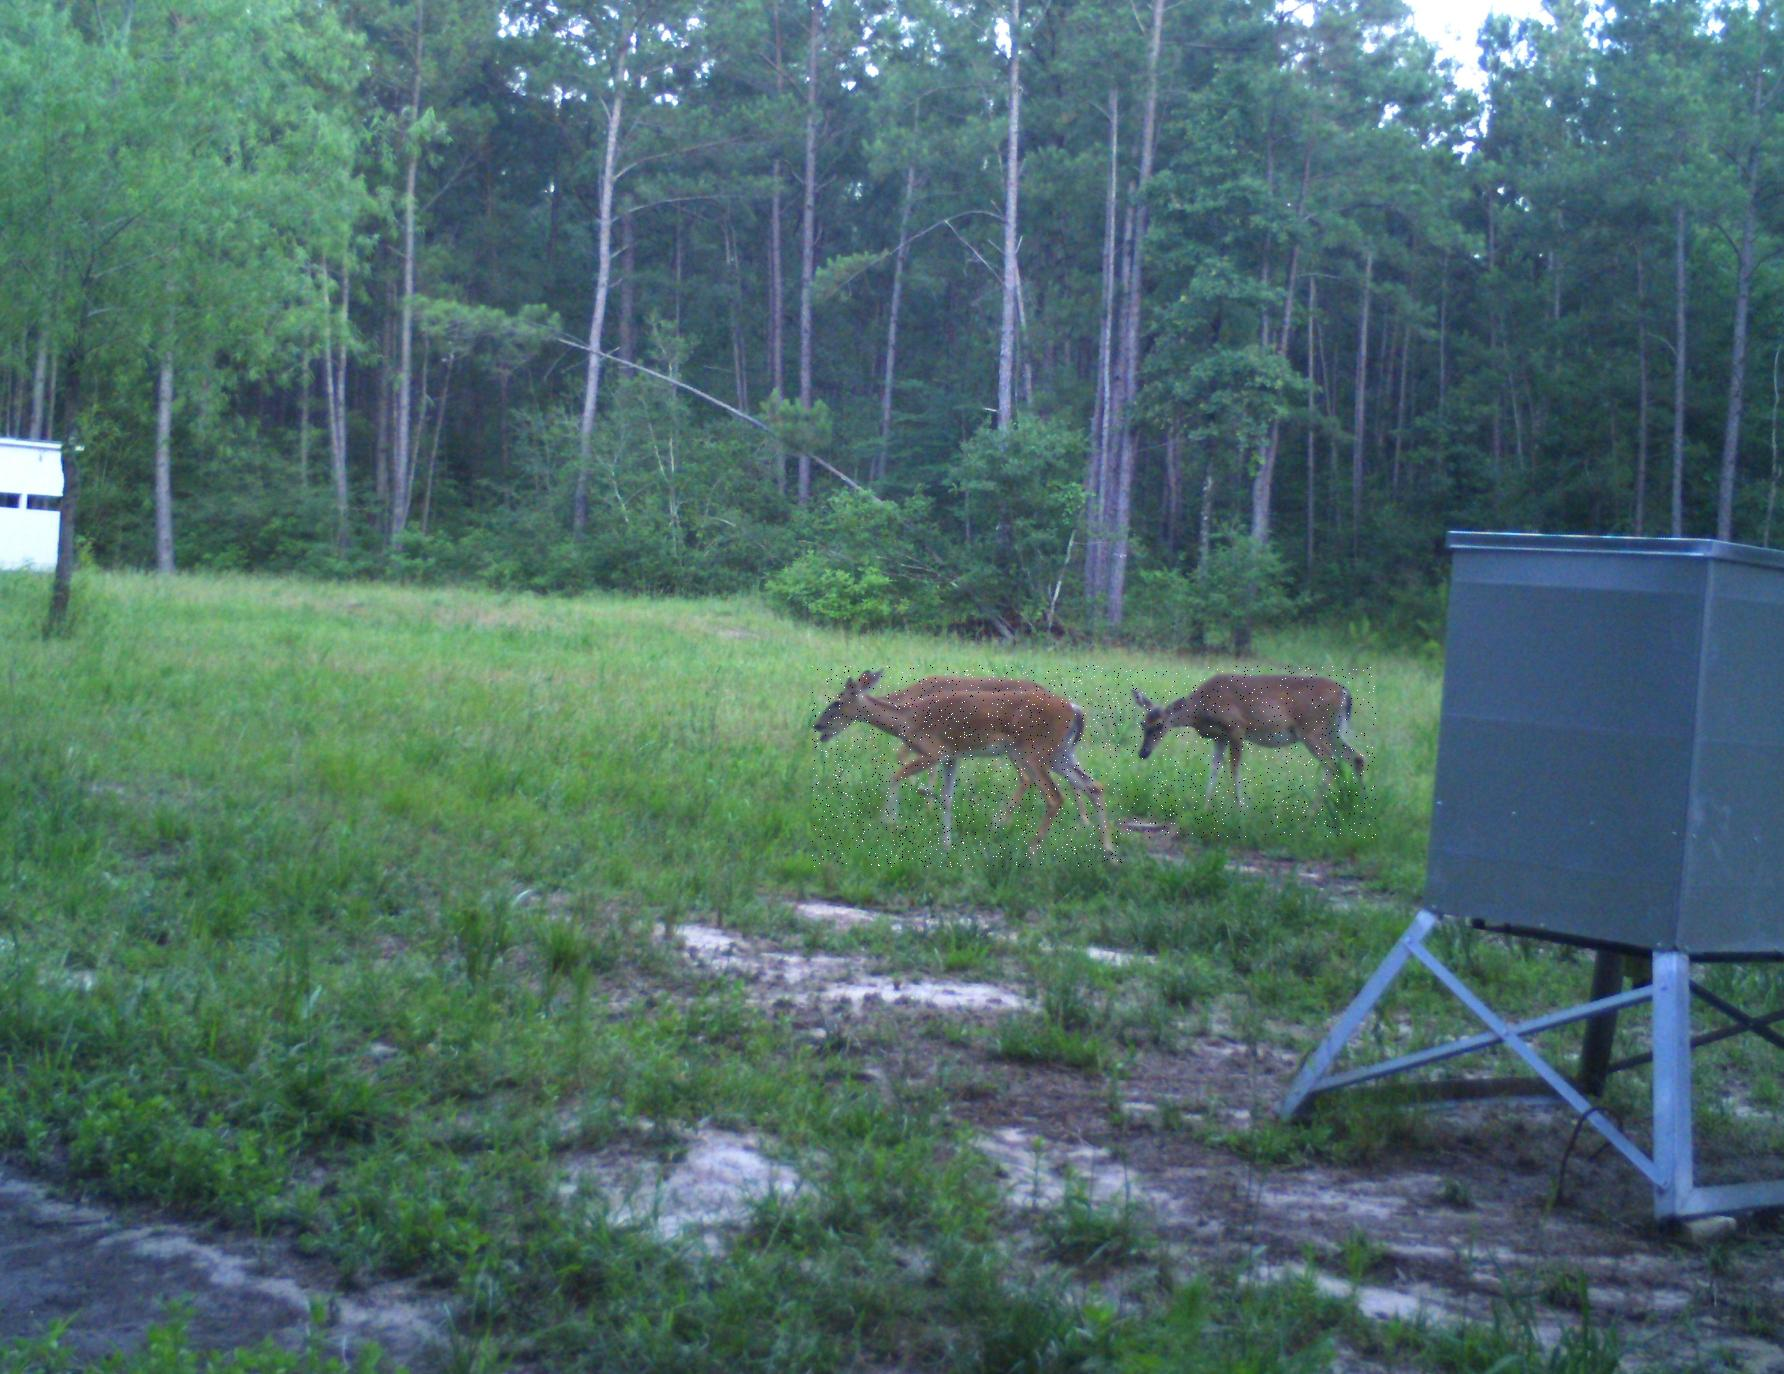Deer: (813, 665, 1121, 867), (1124, 667, 1376, 837)
